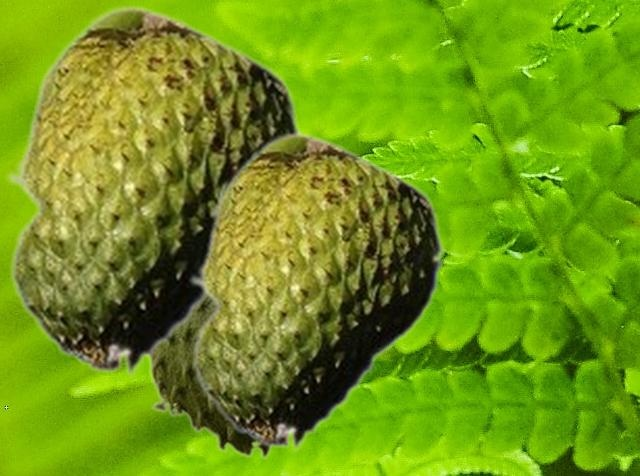guyabano: (5, 4, 302, 378), (188, 131, 444, 452), (145, 131, 305, 458)
